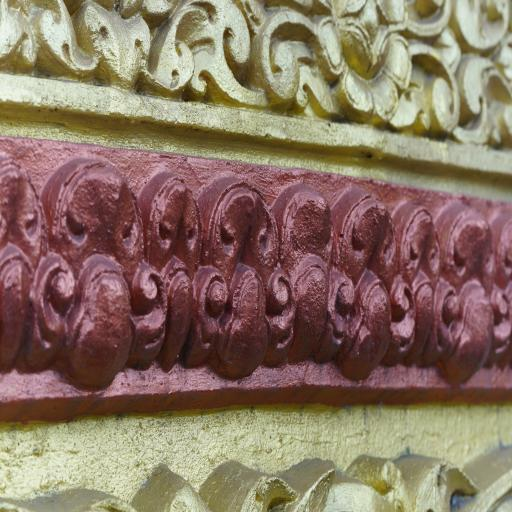hoa: (316, 0, 417, 135)
la: (39, 141, 166, 378), (328, 187, 420, 398), (198, 178, 297, 373), (140, 164, 223, 365), (167, 0, 302, 104), (276, 185, 344, 376), (436, 198, 498, 384), (0, 140, 43, 377), (392, 197, 451, 368), (0, 0, 93, 89), (434, 45, 512, 141)
